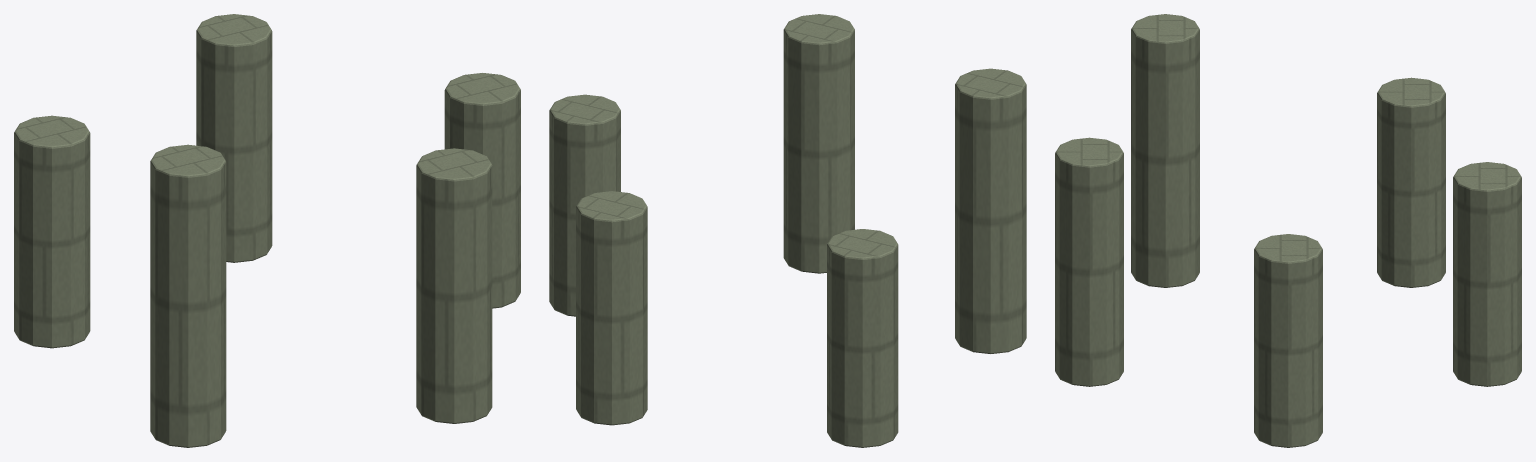
The model's file is ruins.glb.
The picture shows the model from 3 angles, left to right: view 1: azimuth 30°, elevation 25°; view 2: azimuth 150°, elevation 25°; view 3: azimuth 270°, elevation 25°; orthographic projection. The views are drawn at different scales.
Parts seen in each view (by area): view 1: ruin.003, ruin.004, ruin.002, ruin.001, ruin; view 2: ruin.003, ruin.004, ruin.001, ruin.002, ruin; view 3: ruin.003, ruin.004, ruin.001, ruin, ruin.002.
Boxes of the visible parts, box(x1,y1,x2,y2) form: ruin.003: box(150, 144, 226, 447); ruin.004: box(416, 148, 492, 423); ruin.002: box(14, 115, 90, 348); ruin.001: box(196, 14, 272, 262); ruin: box(444, 73, 520, 308); ruin.003: box(955, 68, 1026, 353); ruin.004: box(783, 14, 854, 273); ruin.001: box(576, 191, 647, 425); ruin.002: box(827, 229, 898, 447); ruin: box(549, 94, 620, 316); ruin.003: box(1131, 14, 1199, 287); ruin.004: box(1055, 137, 1123, 386); ruin.001: box(1453, 162, 1521, 386); ruin: box(1254, 234, 1322, 447); ruin.002: box(1377, 77, 1445, 287).
Size of the model in its own units: 2.99 by 1.82 by 3.12.
1 material, 1 textured.
